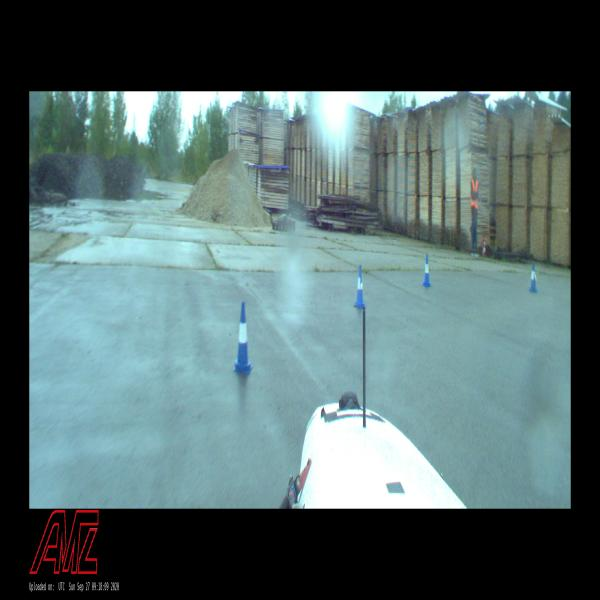blue_cone: (233, 300, 253, 373), (353, 265, 366, 308), (422, 254, 432, 287), (529, 261, 537, 293)
